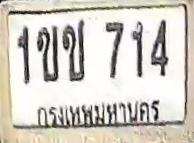1: (130, 20, 144, 76), (17, 27, 30, 84)
4: (150, 19, 169, 76)
7: (104, 21, 124, 79)
A02: (36, 25, 58, 82)
A10: (62, 19, 86, 81)
BKK: (31, 97, 164, 131)
